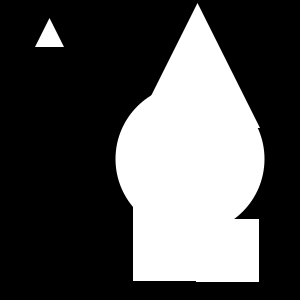circle: (133, 189, 225, 281), (196, 219, 259, 282)
rectangle: (116, 85, 264, 234)
triangle: (135, 3, 260, 128), (35, 18, 64, 47)
